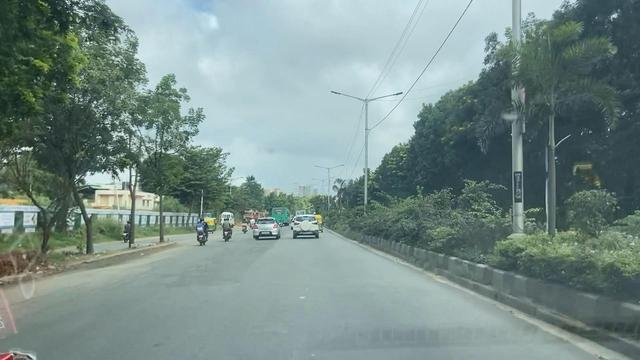LMV: (249, 211, 283, 242), (291, 209, 325, 239), (119, 214, 140, 246), (219, 210, 237, 245), (193, 215, 213, 246)
